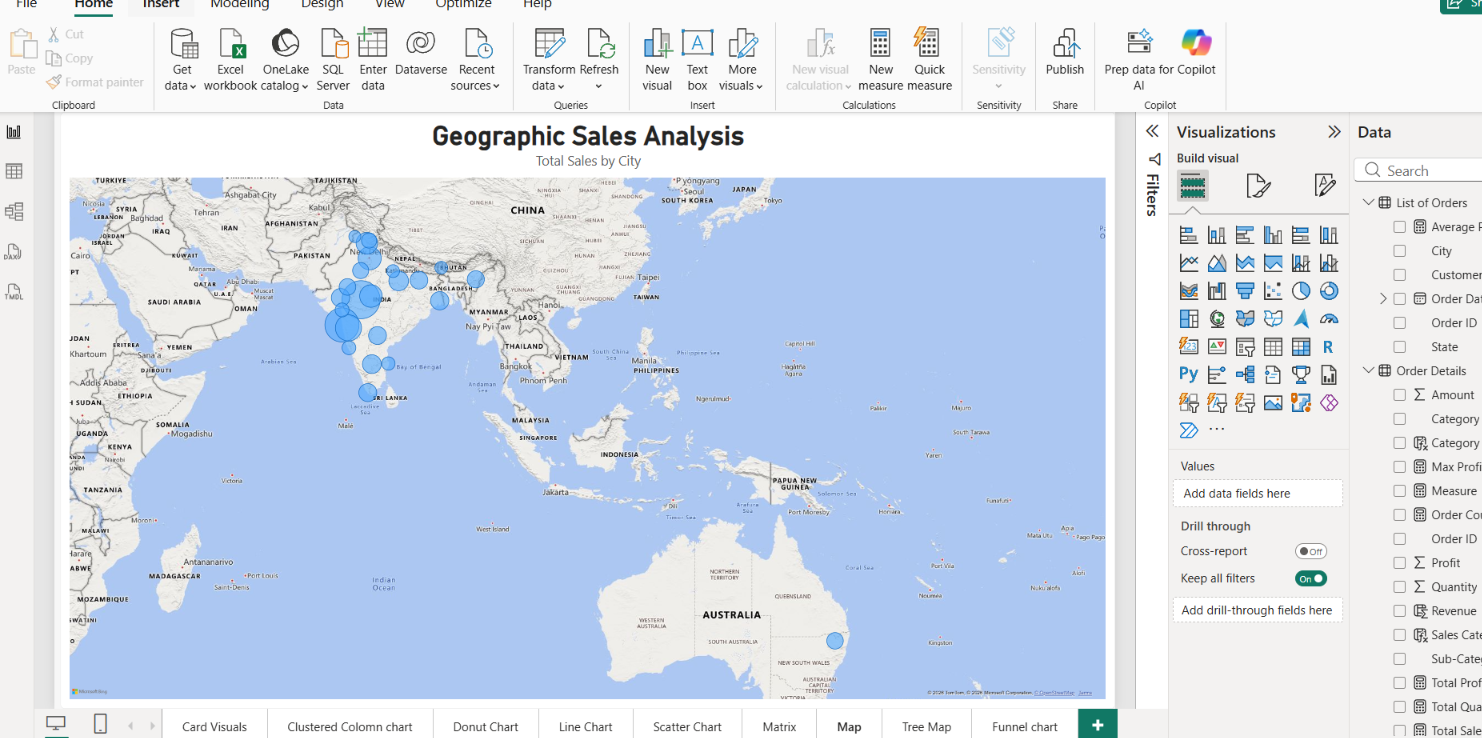

The page's visual inventory and layout, read from the dashboard file:
{"tool":"powerbi","page":{"name":"Map","canvas":[1920,1080],"ordinal":6},"visuals":[{"type":"map","title":"Geographic Sales Analysis","fields":{"Category":["List of Orders.City"],"Size":["Order Details.Total Sales"]},"box":[10.9,0,1909.2,1080.4],"z":0}]}

Visuals, with their boxes on the page's 1920x1080 design canvas (x1, y1, x2, y2). These are canvas units, not pixel positions in the 1482x738 screenshot, which may show the page scaled, cropped or inside an application window:
"Geographic Sales Analysis" map: select_region(11, 0, 1920, 1080)
